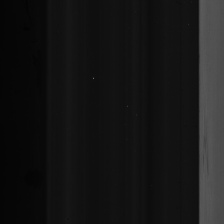silk_spot: (201, 104, 216, 189)
